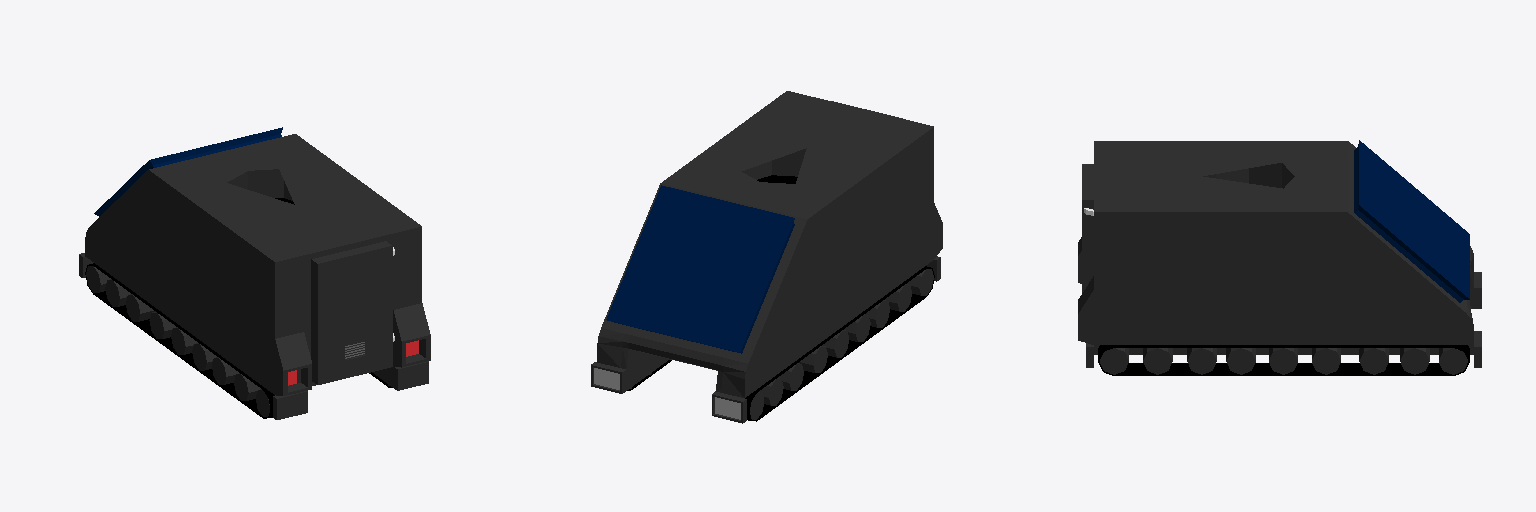
The picture shows the model from 3 angles: view 1: azimuth 30°, elevation 25°; view 2: azimuth 150°, elevation 25°; view 3: azimuth 270°, elevation 25°; orthographic projection.
Visible parts, largest first — view 1: M113-APC_Cube; view 2: M113-APC_Cube; view 3: M113-APC_Cube.
Part boxes in pixels (x1,y1,x2,y2): M113-APC_Cube: (79, 127, 430, 419); M113-APC_Cube: (591, 91, 942, 423); M113-APC_Cube: (1078, 140, 1481, 375).
Size of the model in its own units: 1.98 by 2.07 by 4.56.
Materials: 2 (1 with a texture image).